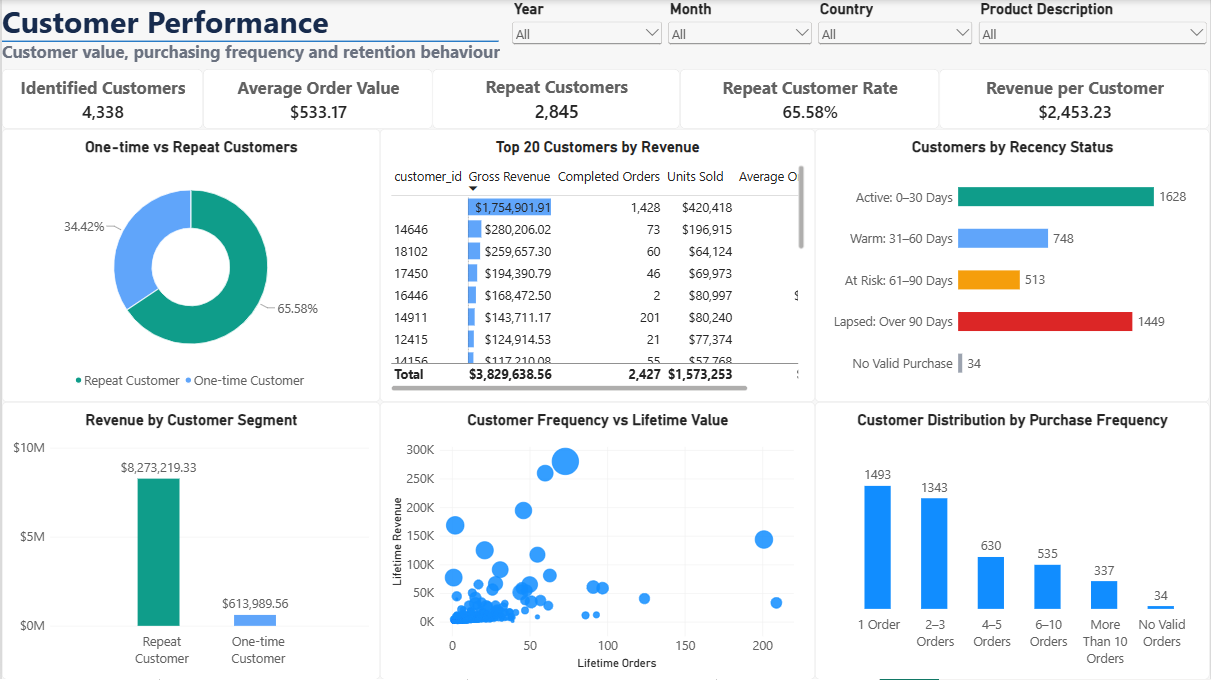

This screenshot's page, from the dashboard's own definition file:
{"tool":"powerbi","page":{"name":"Customer Performance","canvas":[1920,1080],"ordinal":2},"visuals":[{"type":"textbox","box":[0,0,851.8,109.8],"z":0},{"type":"shape","box":[0,0,789.7,131.2],"z":1},{"type":"slicer","fields":{"Values":["DimDate.Year"]},"box":[806.4,0,248.1,76.3],"z":2},{"type":"slicer","fields":{"Values":["DimDate.Month"]},"box":[1054.6,0,238.6,76.3],"z":3},{"type":"slicer","fields":{"Values":["DimCountry.country"]},"box":[1293.2,0,255.3,76.3],"z":4},{"type":"slicer","fields":{"Values":["DimProduct.product_description"]},"box":[1548.5,0,372.2,76.3],"z":5},{"type":"cardVisual","fields":{"Data":["Measures (2).Identified Customers"]},"box":[0,109.8,319.7,95.4],"z":6},{"type":"cardVisual","fields":{"Data":["Measures (2).Repeat Customers"]},"box":[684.8,109.8,393.7,95.4],"z":7},{"type":"cardVisual","fields":{"Data":["Measures (2).Repeat Customer Rate"]},"box":[1078.4,109.8,412.8,95.4],"z":8},{"type":"cardVisual","fields":{"Data":["Measures (2).Revenue per Customer"]},"box":[1491.2,109.8,429.5,95.4],"z":9},{"type":"cardVisual","fields":{"Data":["Measures (2).Average Order Value"]},"box":[319.7,109.8,365,95.4],"z":10},{"type":"donutChart","title":"One-time vs Repeat Customers","fields":{"Category":["CustomerSegment.Customer Segment"],"Y":["Measures (2).Customer Segment Count"]},"box":[0,205.2,601.3,434.2],"z":11},{"type":"clusteredColumnChart","title":"Revenue by Customer Segment","fields":{"Category":["CustomerSegment.Customer Segment"],"Y":["Measures (2).Customer Segment Revenue"]},"box":[0,639.4,601.3,441.4],"z":12},{"type":"tableEx","title":"Top 20 Customers by Revenue","fields":{"Values":["DimCustomer.customer_id","Measures (2).Gross Revenue","Measures (2).Completed Orders","Measures (2).Units Sold","Measures (2).Average Order Value"]},"box":[601.3,205.2,691.9,434.2],"z":13},{"type":"scatterChart","title":"Customer Frequency vs Lifetime Value","fields":{"Category":["DimCustomer.customer_id"],"Size":["Sum(DimCustomer.Customer Lifetime Units)"],"X":["Sum(DimCustomer.Customer Lifetime Orders)"],"Y":["Sum(DimCustomer.Customer Lifetime Revenue)"]},"box":[601.3,639.4,691.9,441.4],"z":15},{"type":"clusteredBarChart","title":"Customers by Recency Status","fields":{"Category":["DimCustomer.Customer Recency Band"],"Y":["CountNonNull(DimCustomer.customer_id)"]},"box":[1293.2,205.2,627.5,434.2],"z":16},{"type":"clusteredColumnChart","title":"Customer Distribution by Purchase Frequency","fields":{"Category":["DimCustomer.Customer Order Band"],"Y":["CountNonNull(DimCustomer.customer_id)"]},"box":[1293.2,639.4,627.5,441.4],"z":17}]}

Visuals, with their boxes in screenshot pixels (x1, y1, x2, y2), scaled from the page's 1920x1080 canvas onto the 1211x680 screenshot:
textbox: select_region(0, 0, 537, 69)
shape: select_region(0, 0, 498, 83)
slicer - DimDate.Year: select_region(509, 0, 665, 48)
slicer - DimDate.Month: select_region(665, 0, 816, 48)
slicer - DimCountry.country: select_region(816, 0, 977, 48)
slicer - DimProduct.product_description: select_region(977, 0, 1210, 48)
cardVisual - Measures (2).Identified Customers: select_region(0, 69, 202, 129)
cardVisual - Measures (2).Repeat Customers: select_region(432, 69, 680, 129)
cardVisual - Measures (2).Repeat Customer Rate: select_region(680, 69, 941, 129)
cardVisual - Measures (2).Revenue per Customer: select_region(941, 69, 1210, 129)
cardVisual - Measures (2).Average Order Value: select_region(202, 69, 432, 129)
"One-time vs Repeat Customers" donutChart: select_region(0, 129, 379, 403)
"Revenue by Customer Segment" clusteredColumnChart: select_region(0, 403, 379, 679)
"Top 20 Customers by Revenue" tableEx: select_region(379, 129, 816, 403)
"Customer Frequency vs Lifetime Value" scatterChart: select_region(379, 403, 816, 679)
"Customers by Recency Status" clusteredBarChart: select_region(816, 129, 1210, 403)
"Customer Distribution by Purchase Frequency" clusteredColumnChart: select_region(816, 403, 1210, 679)
